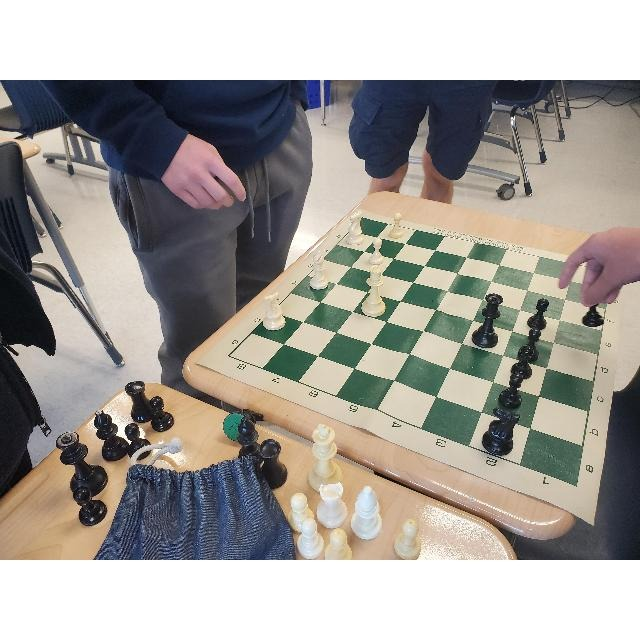black-knight: (482, 405, 521, 457)
black-pawn: (497, 371, 525, 411), (509, 344, 536, 382), (516, 327, 542, 363), (527, 297, 550, 333)
black-queen: (468, 292, 506, 350)
white-bishop: (309, 246, 329, 290)
white-king: (260, 291, 290, 334), (345, 209, 365, 248)
white-pawn: (365, 236, 386, 267), (388, 212, 404, 240)
white-queen: (360, 263, 387, 317)
